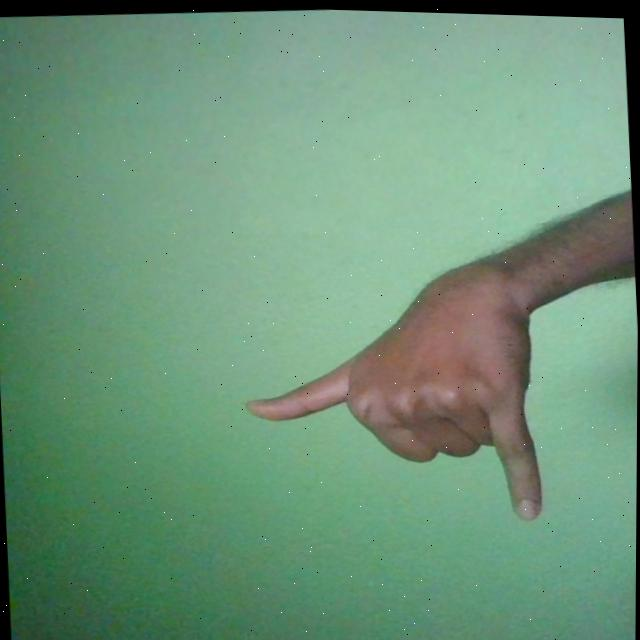Call Me: (234, 245, 546, 533)
